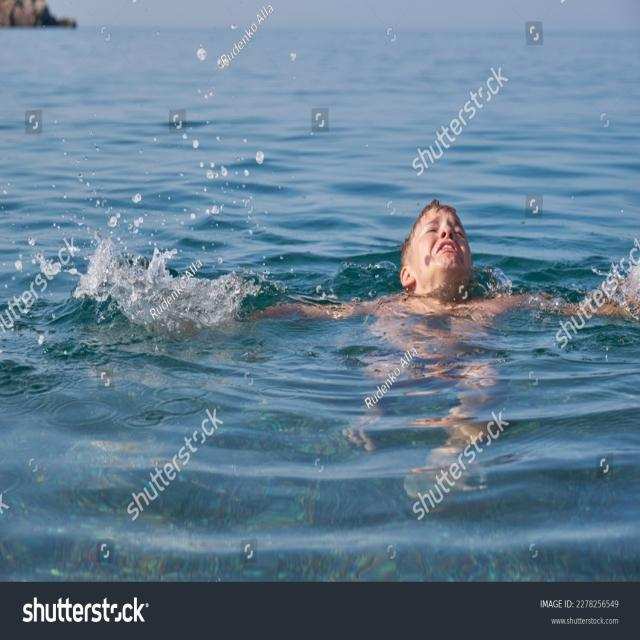drowning: (92, 104, 606, 464)
